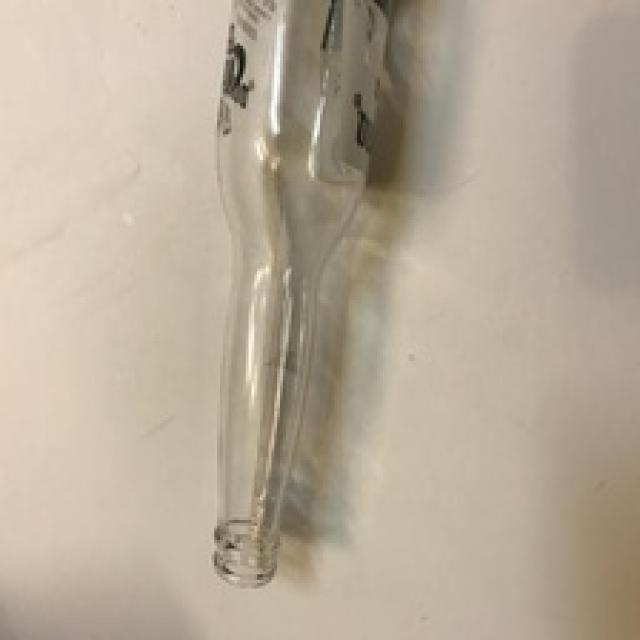Glass: (208, 0, 388, 591)
